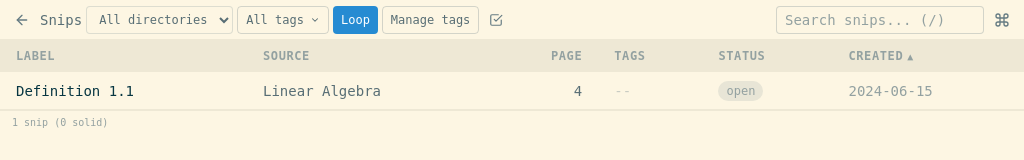
SnipsPage › clicking a row selects it when select mode is on
The width and height of the screenshot is (1024, 160).
Step 1. Click the button named "Toggle select mode" → (496, 20), box [483, 6, 509, 32]
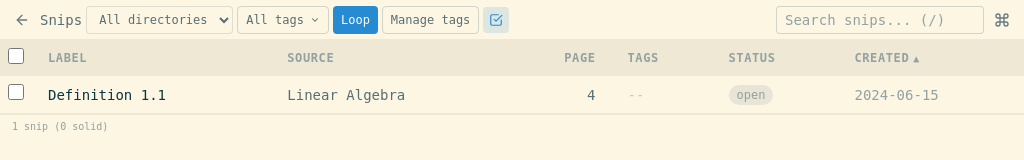
Step 2. Click the text "Definition 1.1" → (512, 95), box [0, 76, 1023, 114]
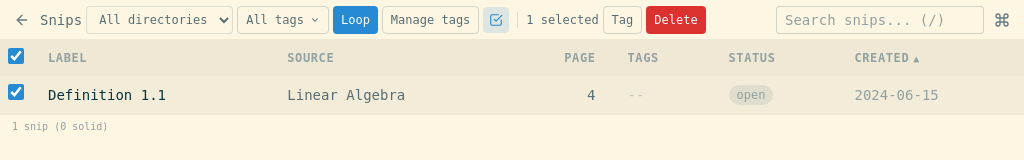
Result: the checkbox next to "Definition 1.1" is checked at [8, 84, 24, 100]
Result: the text "1 selected" is shown at [526, 12, 599, 28]
